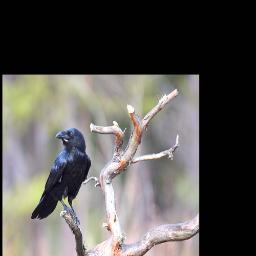Crow: (29, 127, 91, 224)
